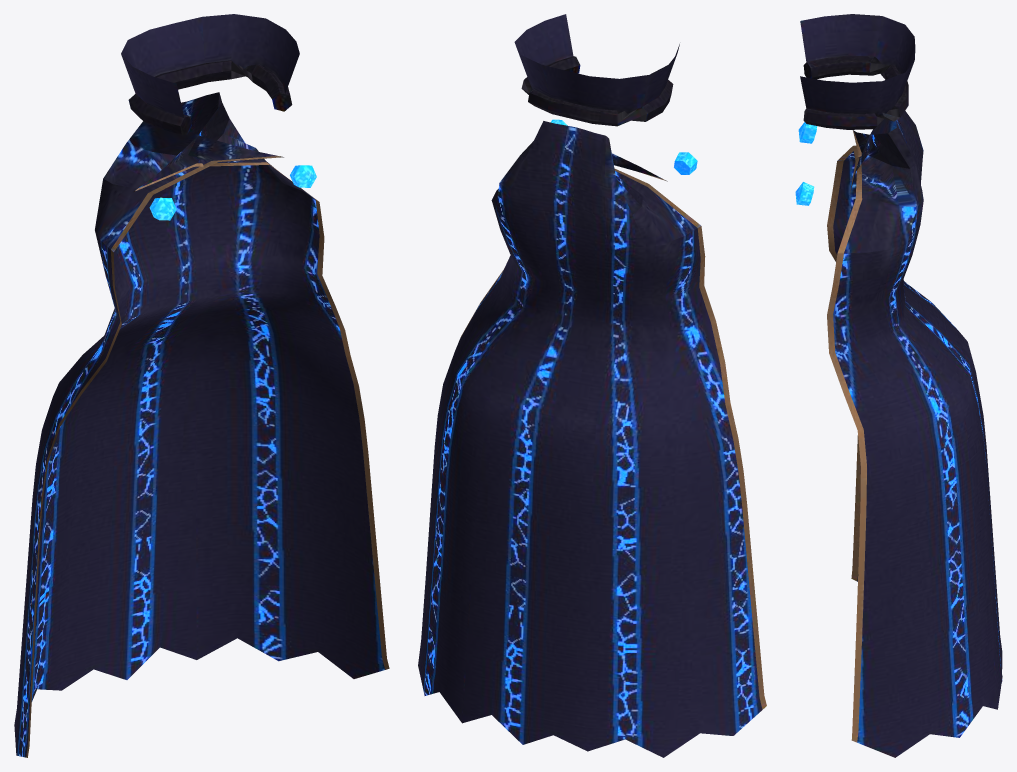
Rendered from Capa_Arcana_nivel100.glb.
The picture shows the model from 3 angles, left to right: view 1: azimuth 30°, elevation 25°; view 2: azimuth 150°, elevation 25°; view 3: azimuth 270°, elevation 25°; orthographic projection. The views are drawn at different scales.
Parts seen in each view (by area): view 1: capa_arcana_nivel100; view 2: capa_arcana_nivel100; view 3: capa_arcana_nivel100.
Part boxes in pixels (x1=…): capa_arcana_nivel100: x1=14, y1=14, x2=389, y2=757; capa_arcana_nivel100: x1=418, y1=14, x2=766, y2=757; capa_arcana_nivel100: x1=795, y1=14, x2=1002, y2=757.
Size of the model in its own units: 0.7071 by 1.29 by 0.3806.
Materials: 1 (1 with a texture image).
